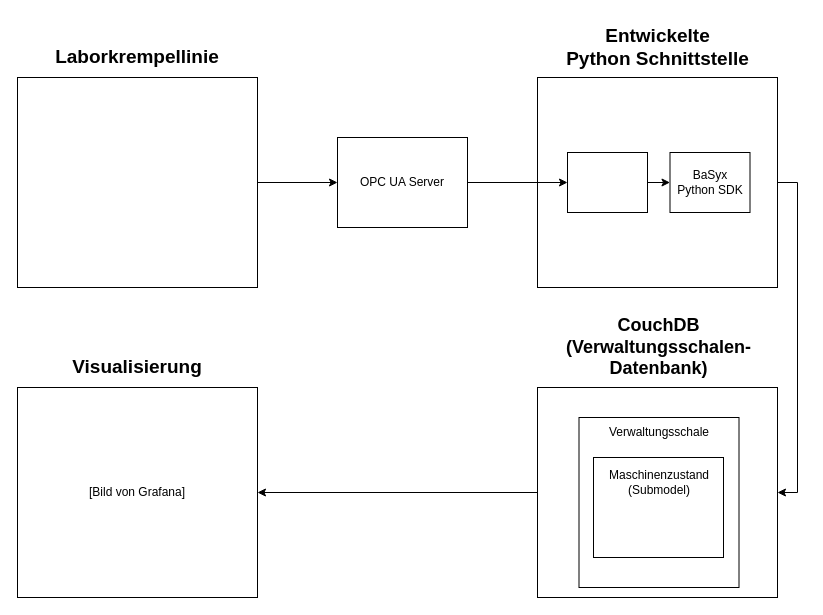
This 823x615 diagram has some shape labels left out. The centre of each missing label's shape, as x and y in pixels:
"[Bild von Laborkrempellinie]" belongs at (x=137, y=182).
"OPC UA Client" belongs at (x=607, y=182).
